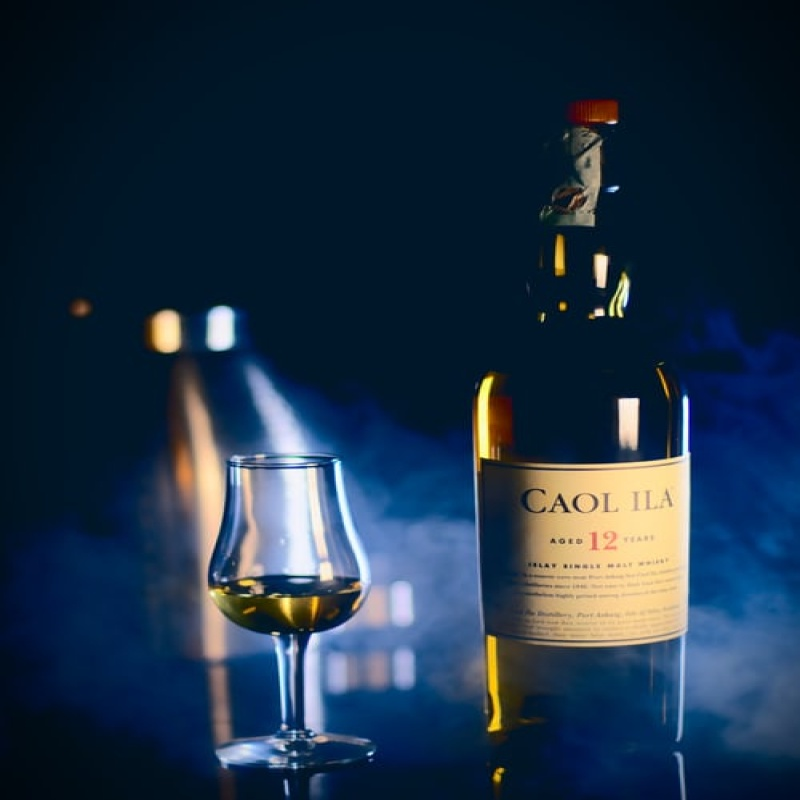wine: (469, 125, 694, 753)
